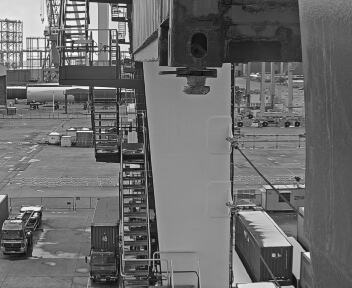twist_lock_1: (196, 176, 253, 225)
